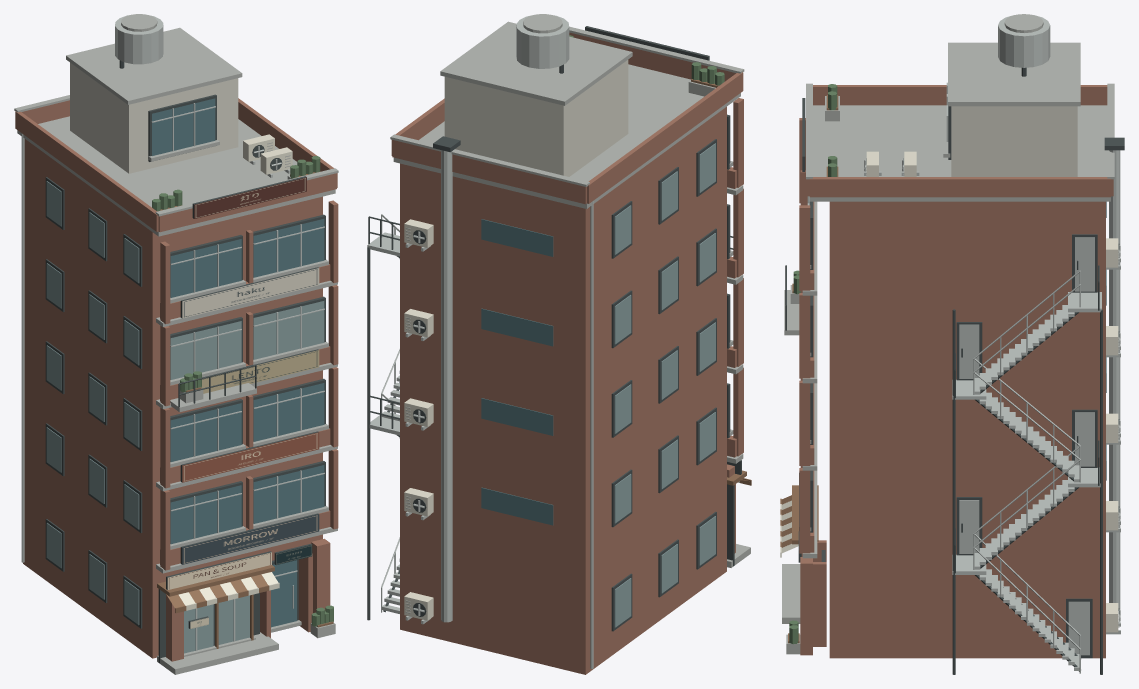
File: dogenzaka-akari-b.glb
The picture shows the model from 3 angles, left to right: view 1: azimuth 30°, elevation 25°; view 2: azimuth 150°, elevation 25°; view 3: azimuth 270°, elevation 25°; orthographic projection. The views are drawn at different scales.
Parts seen in each view (by area): view 1: dogenzaka-akari-b; view 2: dogenzaka-akari-b; view 3: dogenzaka-akari-b.
Part boxes in pixels (x1=…): dogenzaka-akari-b: x1=14, y1=14, x2=338, y2=674; dogenzaka-akari-b: x1=367, y1=14, x2=751, y2=674; dogenzaka-akari-b: x1=780, y1=14, x2=1124, y2=674.
Size of the model in its own units: 8.43 by 21.36 by 11.32.
Materials: 11 (1 with a texture image).
